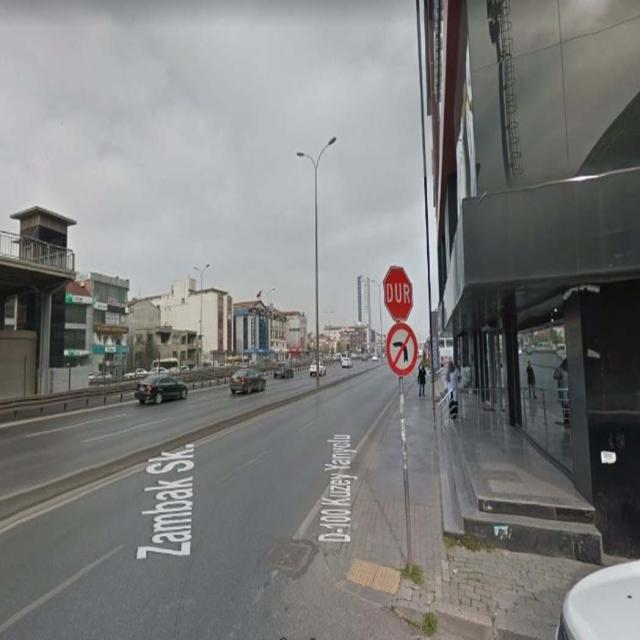dur: (383, 266, 413, 322)
soladonulmez: (386, 324, 418, 376)
